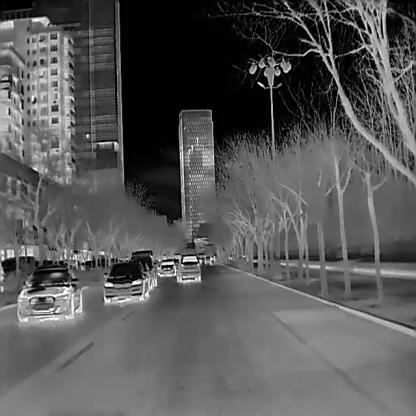car: (16, 262, 82, 322), (102, 261, 147, 303), (129, 247, 156, 286), (174, 253, 200, 281), (158, 258, 175, 276)
